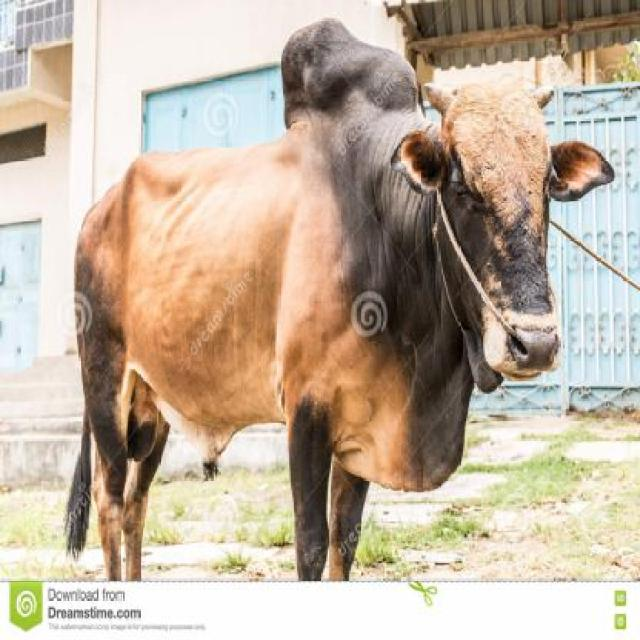Cow: (60, 17, 614, 581)
